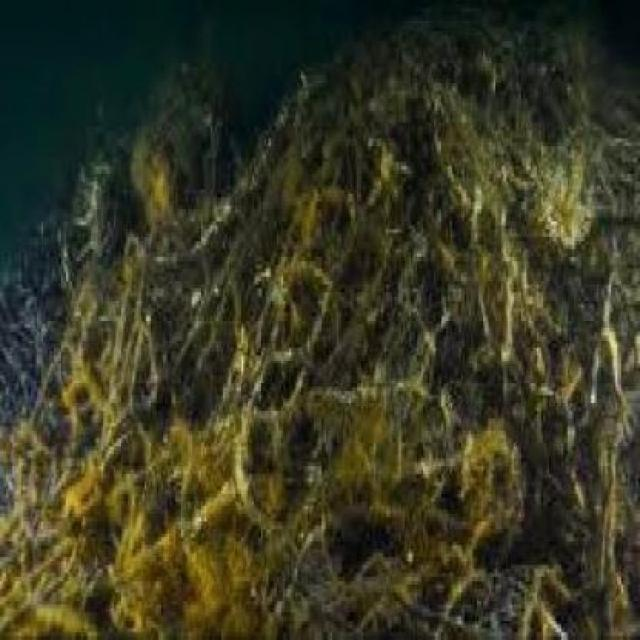net: (6, 39, 639, 636)
